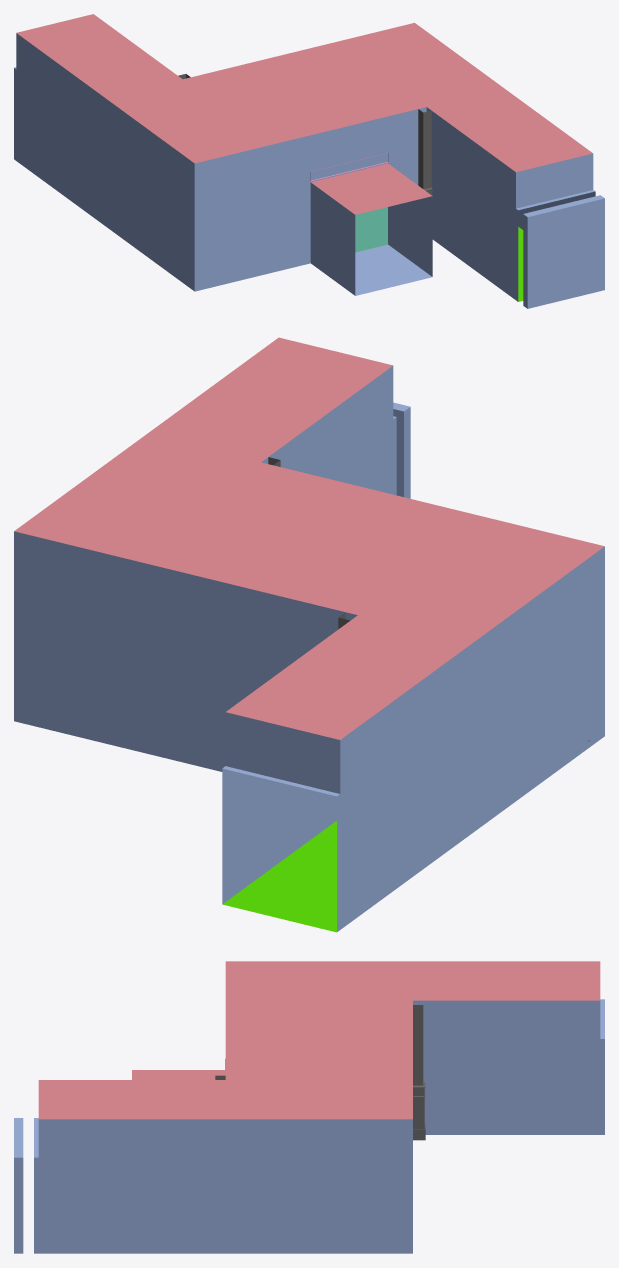
The model's file is RoomS5.fbx.
The picture shows the model from 3 angles, top to bottom: view 1: azimuth 30°, elevation 25°; view 2: azimuth 150°, elevation 25°; view 3: azimuth 270°, elevation 25°; orthographic projection. The views are drawn at different scales.
Parts seen in each view (by area): view 1: Plane.008, Plane.020, Cube.052, Двери.002, Cube.017, Plane.019; view 2: Plane.008, Plane.020, Plane.019, Cube.052; view 3: Plane.008, Plane.020, Cube.016, Cube.052.
Part boxes in pixels (x1=…): Plane.008: x1=14, y1=33, x2=595, y2=301; Plane.020: x1=16, y1=14, x2=592, y2=214; Cube.052: x1=523, y1=195, x2=604, y2=308; Двери.002: x1=355, y1=207, x2=387, y2=252; Cube.017: x1=418, y1=109, x2=432, y2=195; Plane.019: x1=375, y1=227, x2=523, y2=301; Plane.008: x1=14, y1=366, x2=604, y2=931; Plane.020: x1=14, y1=337, x2=604, y2=739; Plane.019: x1=222, y1=821, x2=336, y2=932; Cube.052: x1=393, y1=402, x2=410, y2=498; Plane.008: x1=34, y1=999, x2=604, y2=1253; Plane.020: x1=38, y1=961, x2=600, y2=1119; Cube.016: x1=413, y1=1005, x2=425, y2=1140; Cube.052: x1=14, y1=1118, x2=23, y2=1253.
Bounding box in the file's own units: 800 × 317 × 1262.
